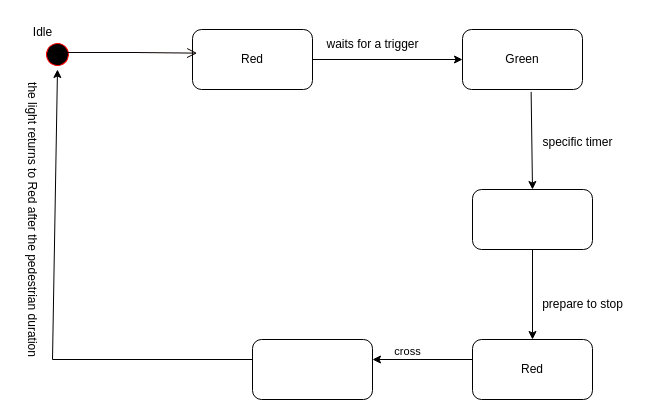
Some shapes in this 649 by 417 pixel diagram are drawn without their labels. Each missing label, with the centre of its shape:
"Pedestrians" goes at [312,369].
"Yellow" goes at [532,219].
